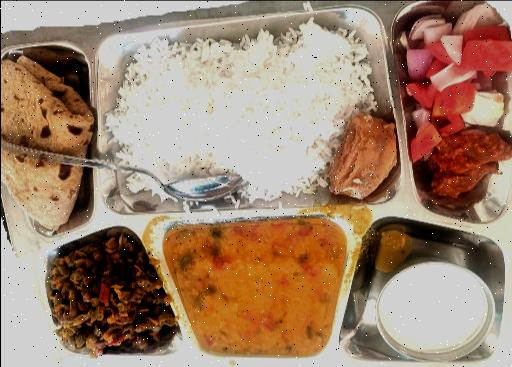Curd: (366, 250, 494, 362)
Dal: (173, 226, 334, 350)
Pickle: (428, 138, 512, 216)
Rice: (98, 29, 374, 202)
Roti: (0, 57, 92, 230)
Salad: (398, 5, 512, 130)
Sweet: (323, 116, 401, 197)
Vegetable: (36, 237, 167, 350)
